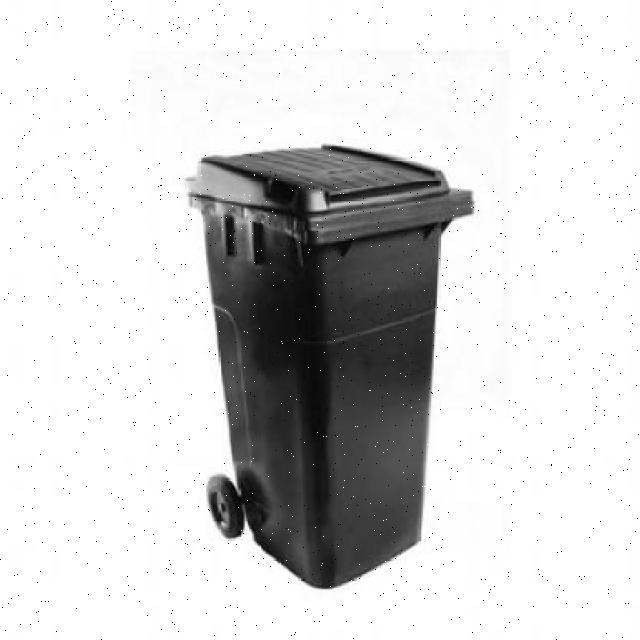garbage container: (174, 137, 485, 597)
